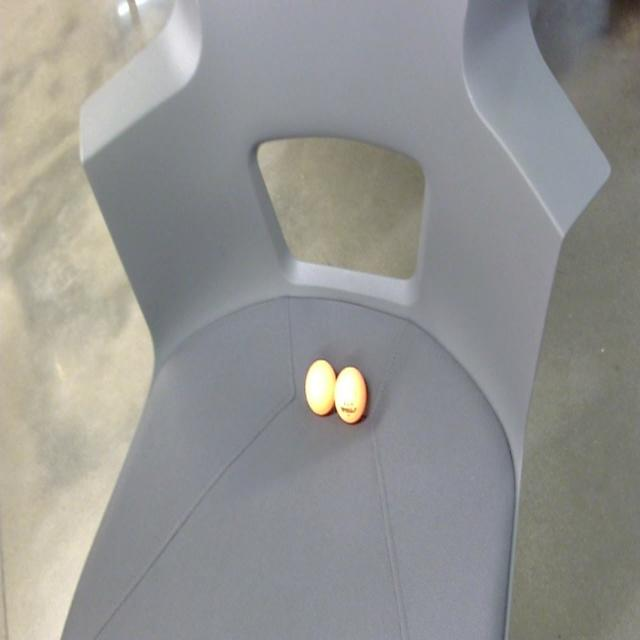ball: (333, 364, 368, 424), (304, 358, 338, 418)
